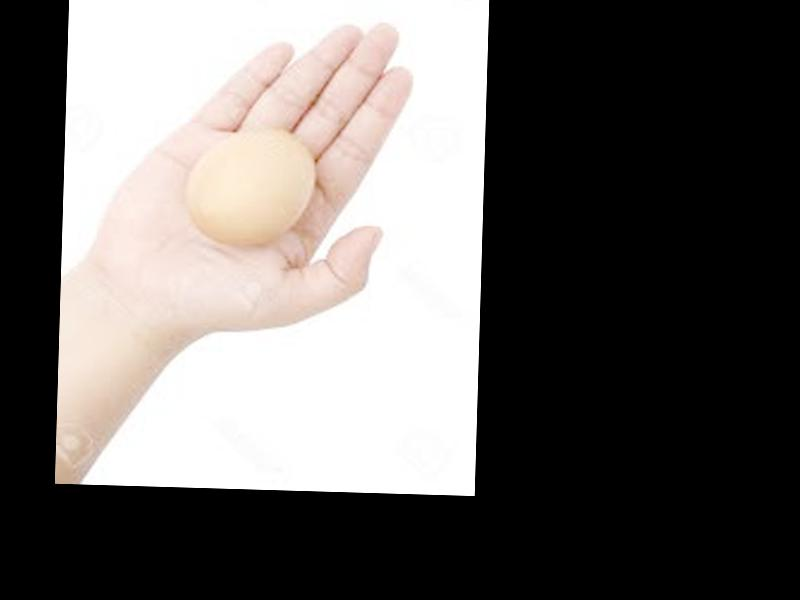Eggs: (185, 129, 315, 249)
